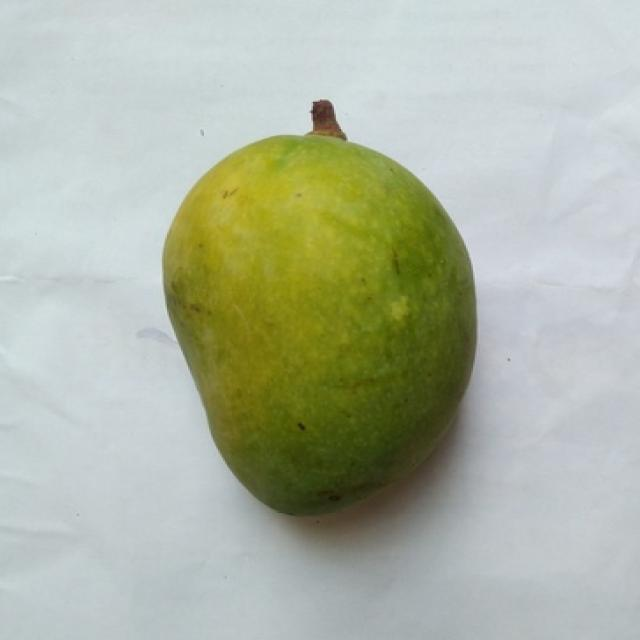Mango: (164, 102, 475, 515)
